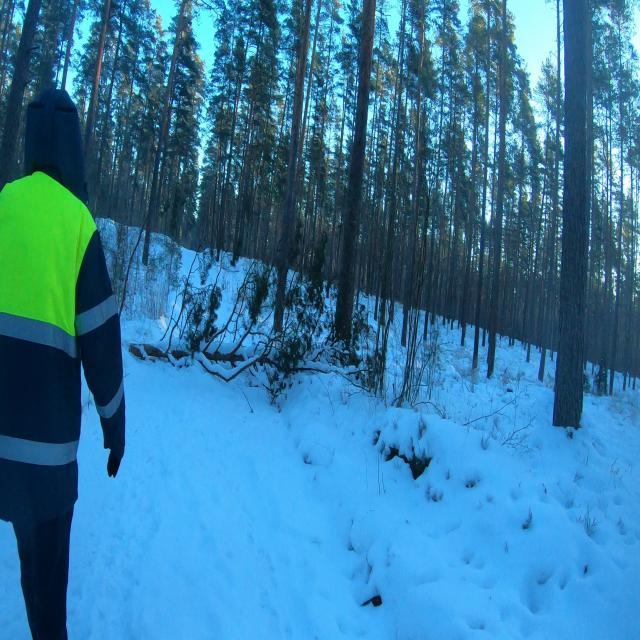bush: (186, 285, 221, 354), (249, 271, 268, 323)
trees: (553, 0, 588, 428), (335, 0, 375, 342), (274, 0, 312, 332), (142, 0, 186, 266), (401, 0, 425, 345), (0, 0, 41, 189), (487, 0, 507, 377), (218, 39, 246, 258), (97, 9, 124, 182), (84, 0, 110, 159), (233, 100, 255, 260), (118, 48, 138, 179), (423, 209, 436, 339), (61, 0, 78, 89), (274, 78, 290, 169), (130, 140, 141, 216), (262, 191, 272, 259), (210, 174, 217, 249), (255, 145, 266, 186), (94, 186, 99, 207), (436, 156, 439, 187), (142, 102, 146, 125), (290, 57, 293, 75), (272, 182, 276, 195), (140, 126, 143, 140), (266, 149, 268, 159), (260, 192, 262, 198)
